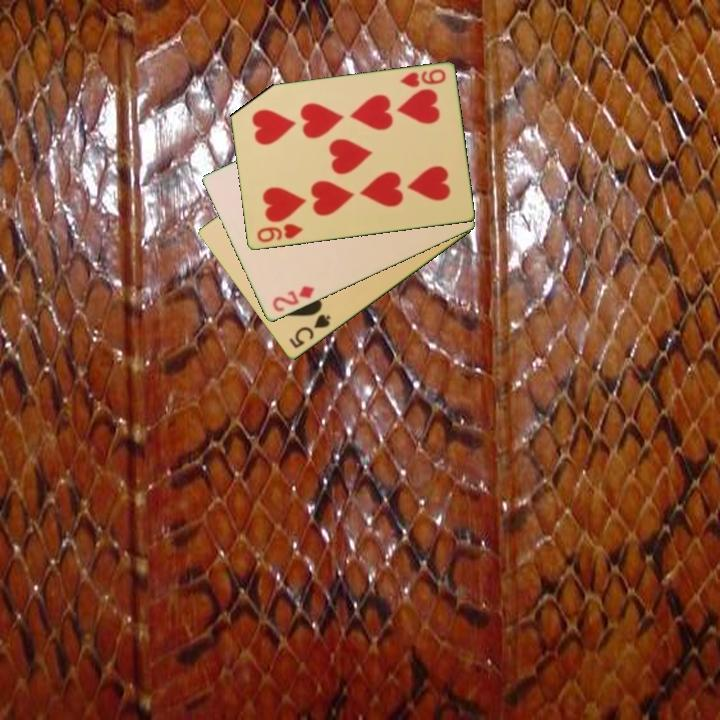2d: (269, 282, 317, 315)
5s: (285, 311, 334, 352)
9h: (253, 220, 306, 245), (396, 66, 448, 91)
